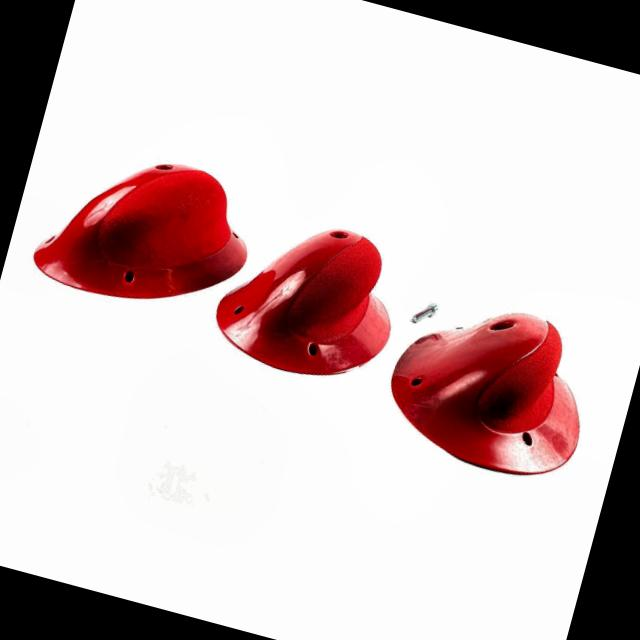Hold: (368, 276, 606, 492), (28, 130, 267, 325), (203, 196, 416, 397)
